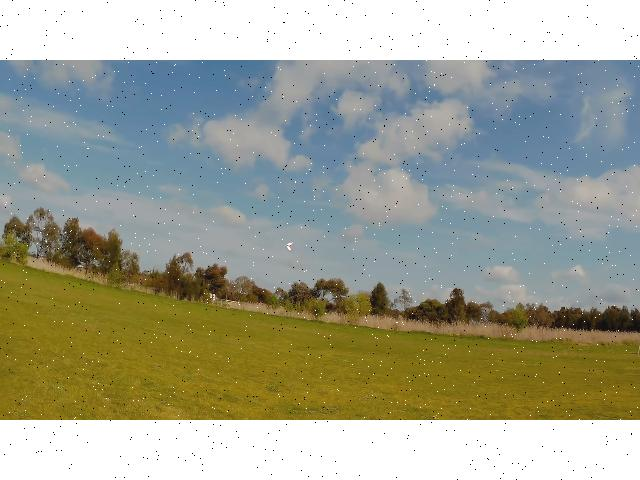Anti-Drone: (285, 242, 293, 250)
